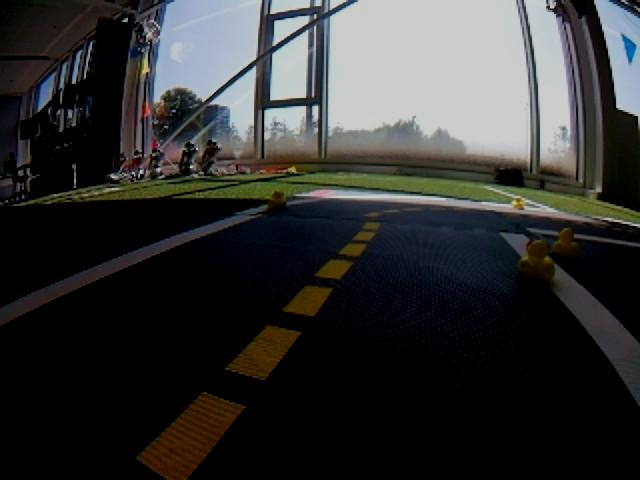Duckies: (518, 240, 556, 283), (552, 228, 579, 256), (266, 191, 289, 207), (511, 197, 525, 209)
